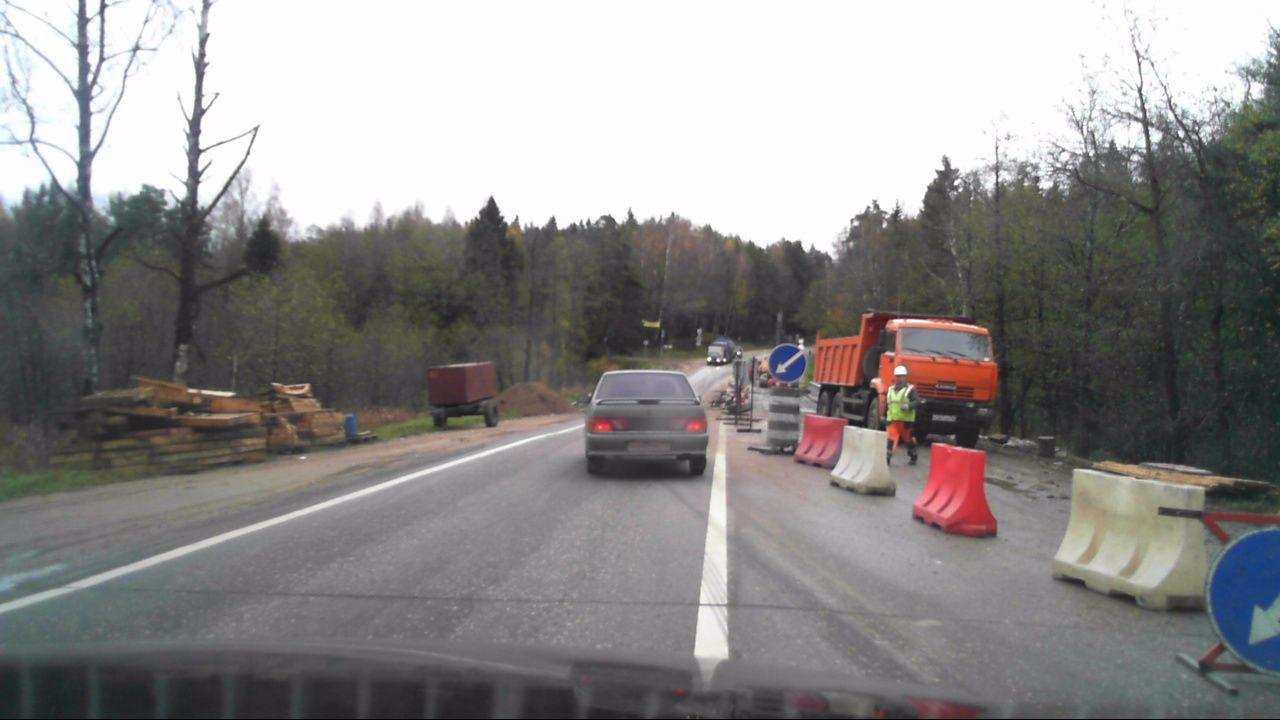4_2_2: (1208, 511, 1280, 674), (767, 344, 806, 383)
